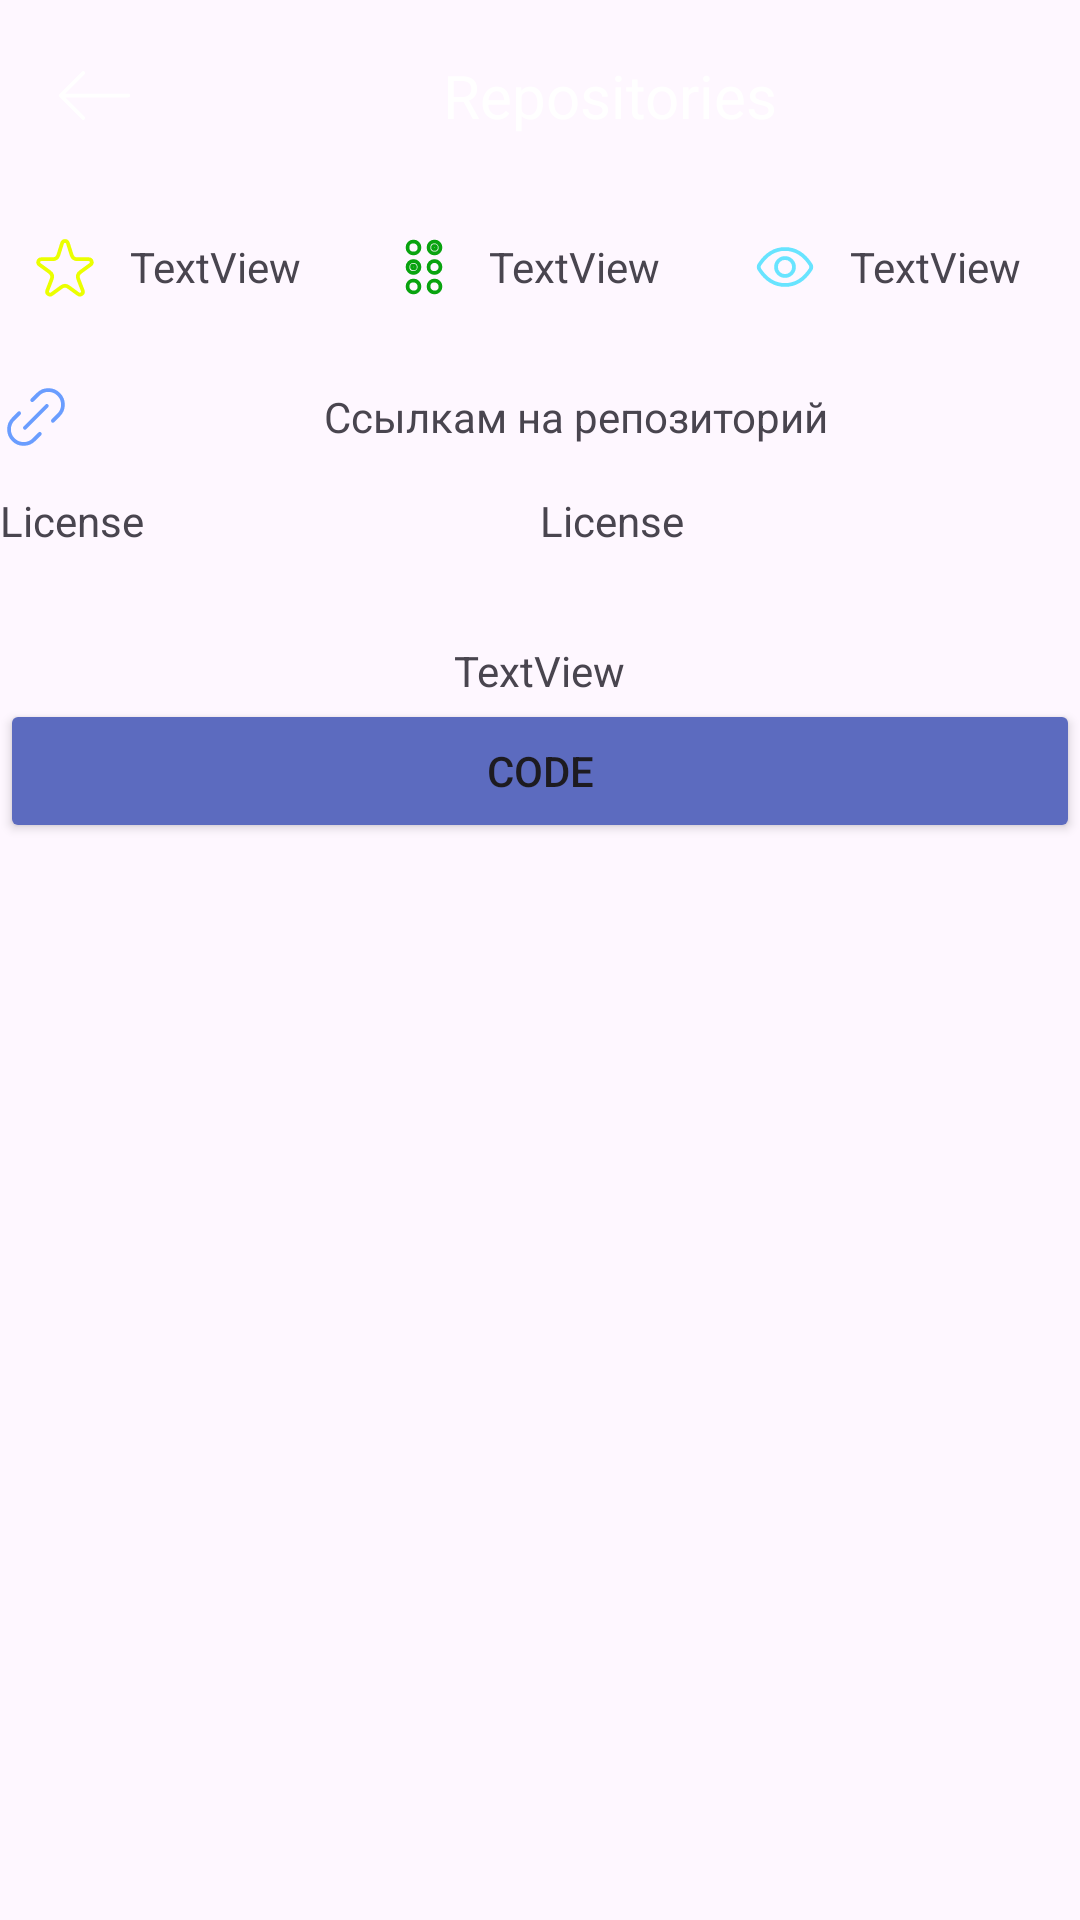

Icons on this 1080px x 1920px Android screen, each with the point to tap as [x,y]:
braille: [424,267]
eye visible: [785,267]
link: [36,417]
star: [65,268]
